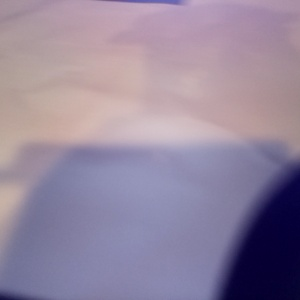top_left: (174, 47, 268, 94)
